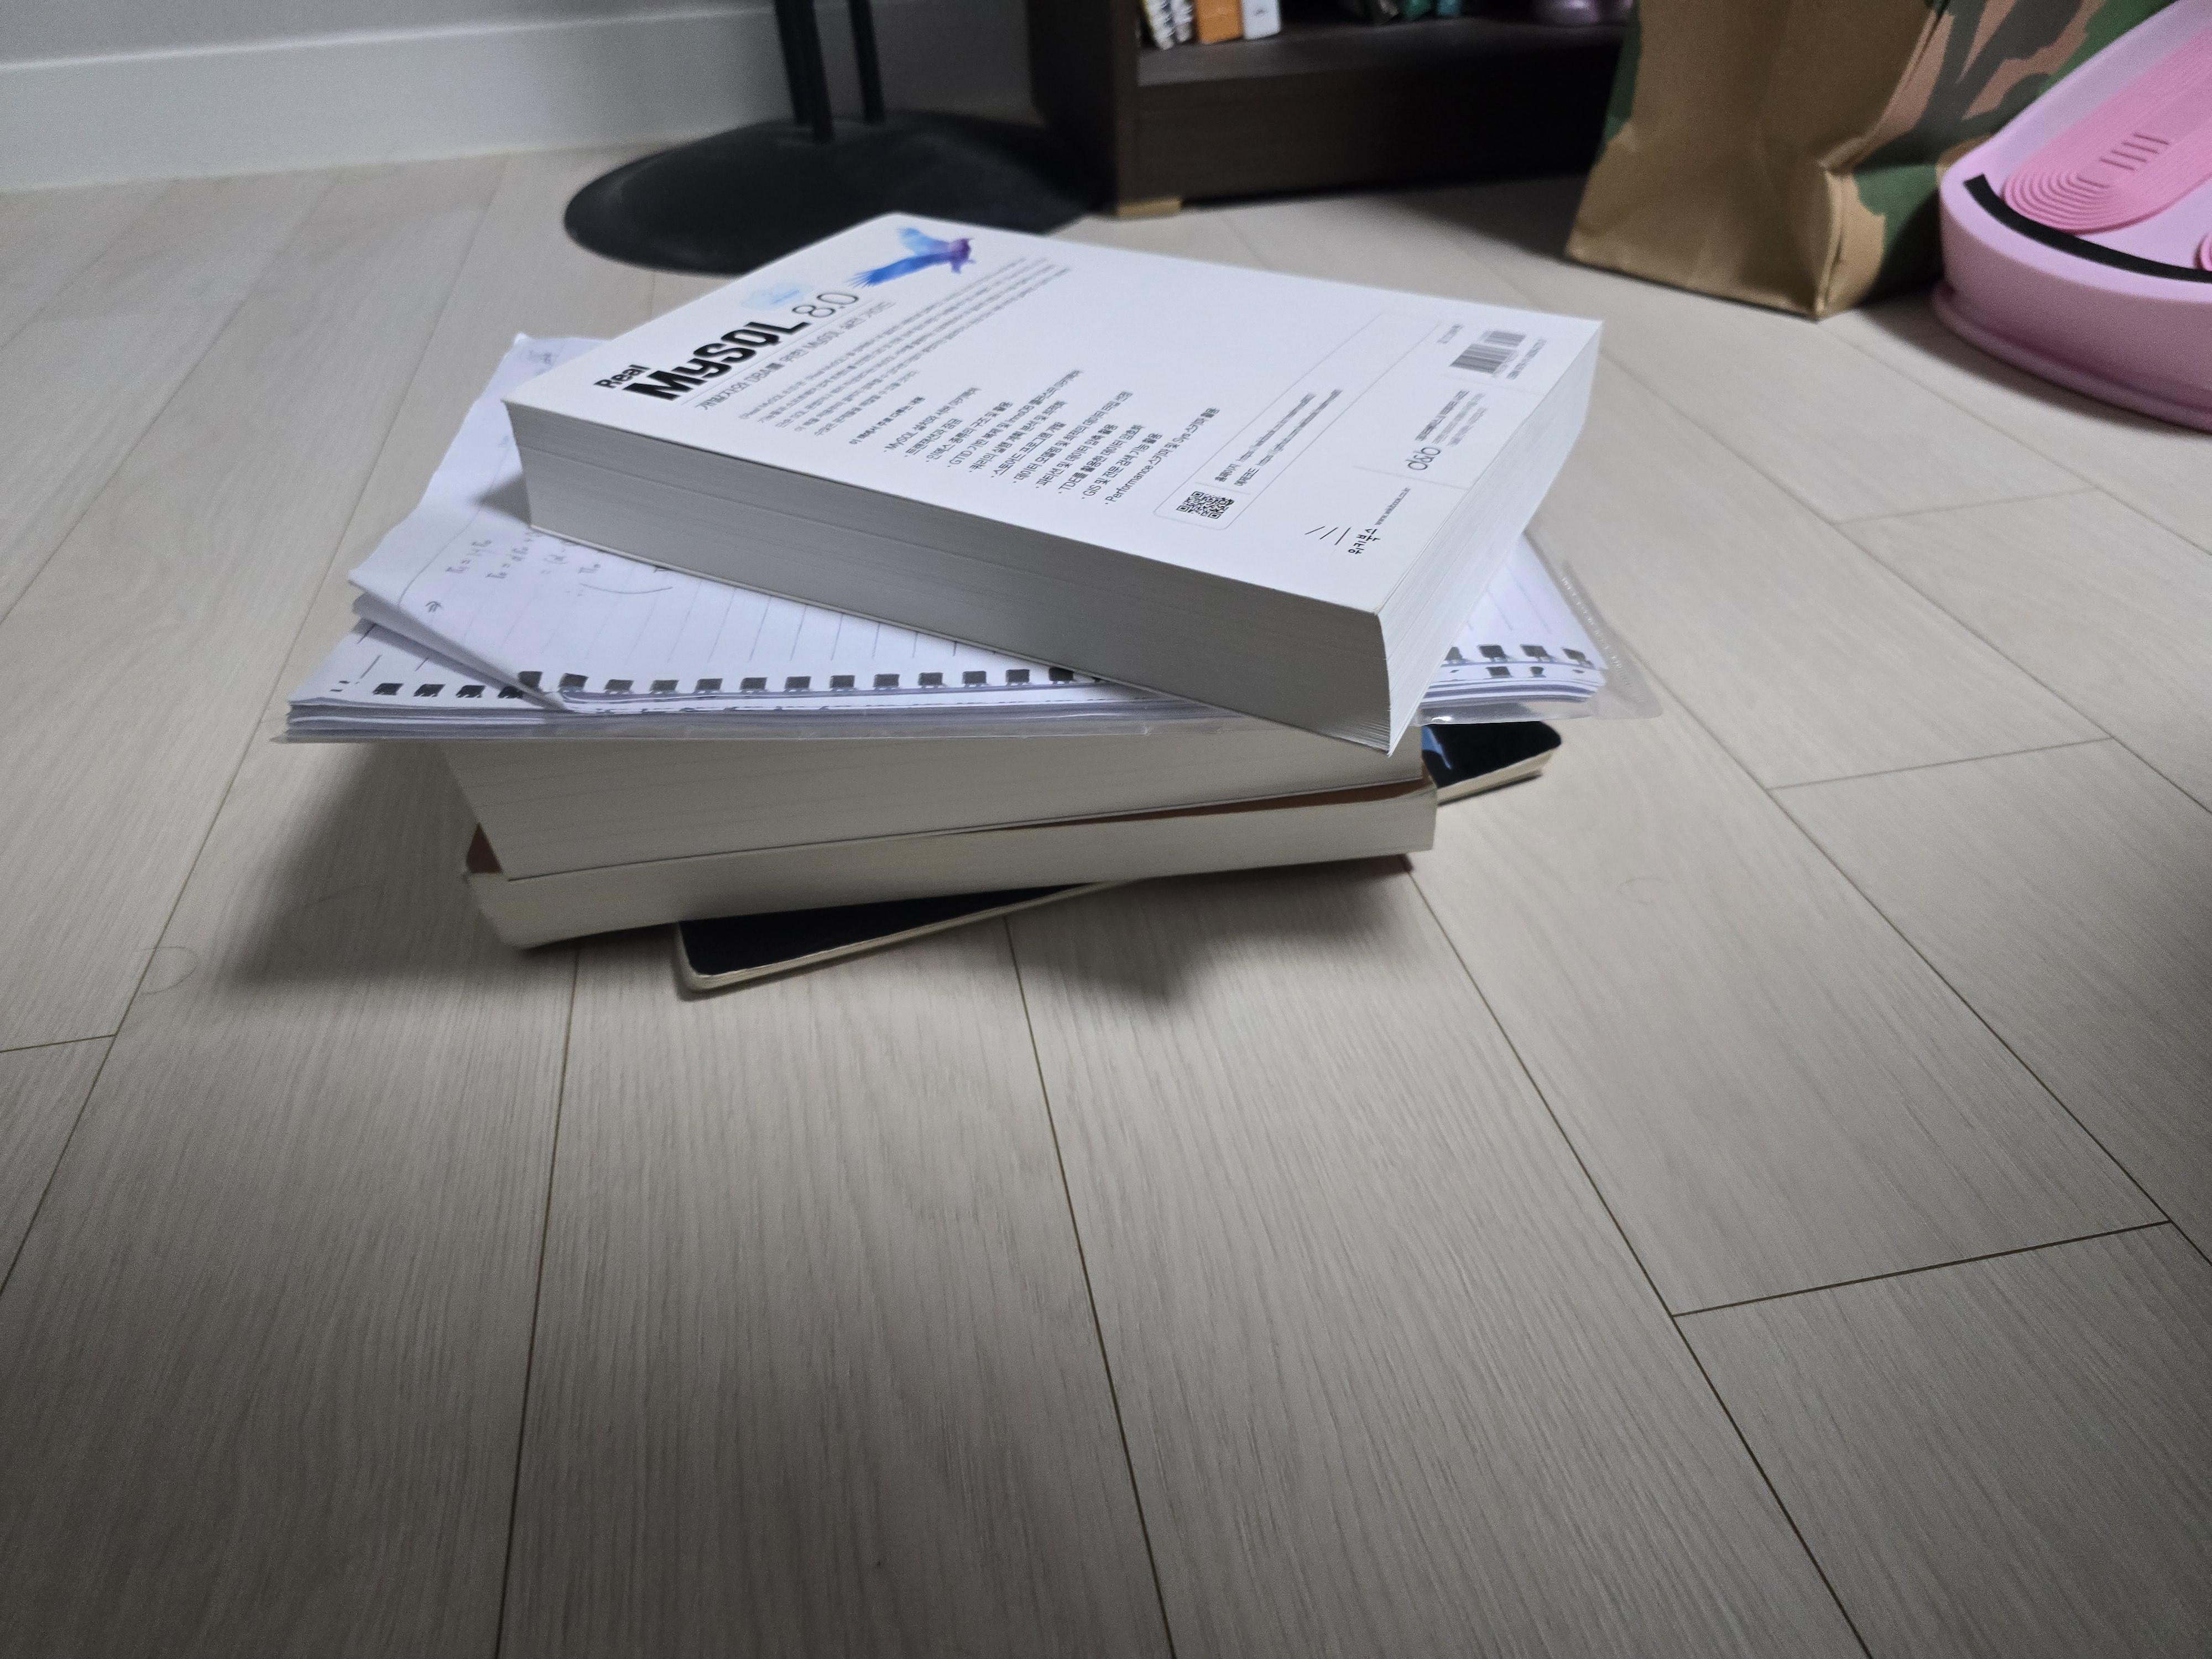book: (287, 368, 1625, 1007), (498, 209, 1608, 755)
